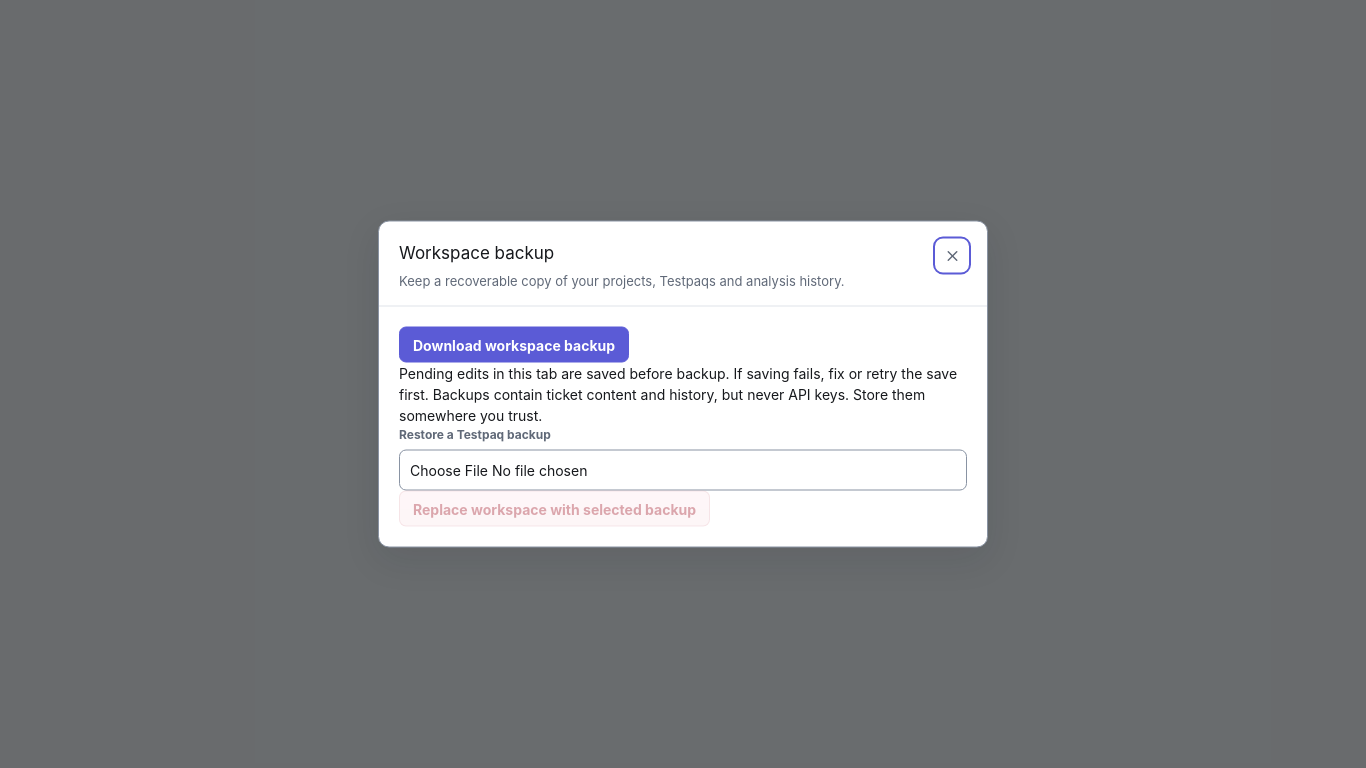
Test: does not request a backup until pending edits save, and explains save failures in the dialog
This screenshot has width=1366, height=768.
Click the button "Download workspace backup" at {"x": 514, "y": 344}, box [399,326,629,362]
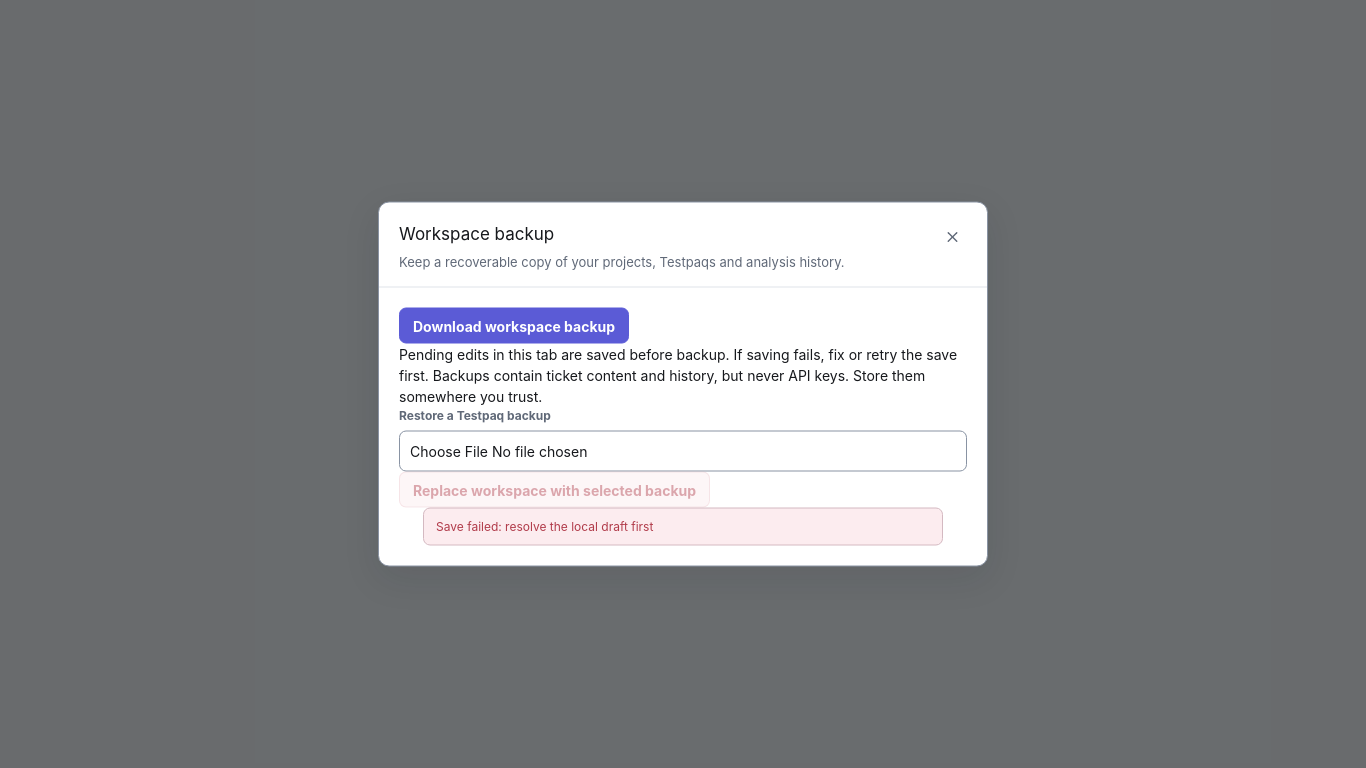
Expected: the button "Download workspace backup" is enabled, [399,308,629,344]
Expected: the message shows "resolve the local draft first", [436,518,653,534]
